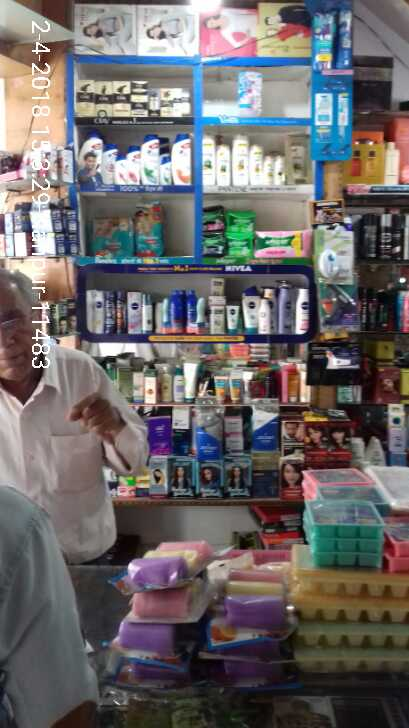venus: (238, 71, 262, 116)
